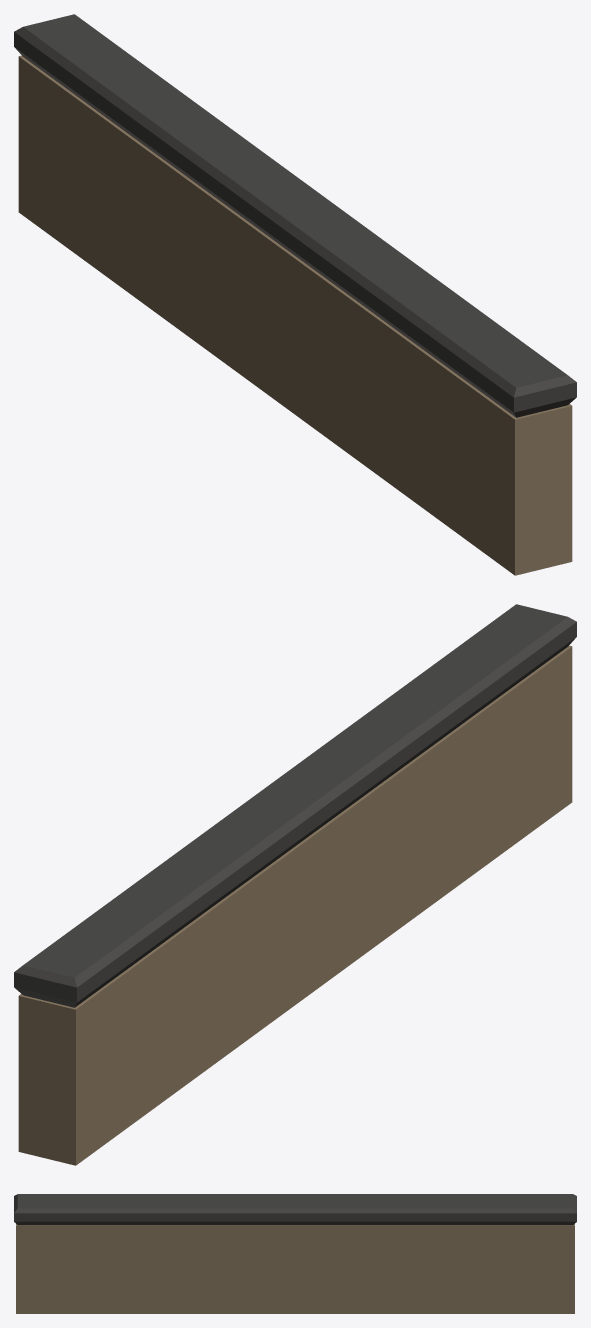
File: SM_Props_City_PlayGround_Skatepark_Element_02.fbx
The picture shows the model from 3 angles, top to bottom: view 1: azimuth 30°, elevation 25°; view 2: azimuth 150°, elevation 25°; view 3: azimuth 270°, elevation 25°; orthographic projection. The views are drawn at different scales.
Parts seen in each view (by area): view 1: SM_Props_City_PlayGround_Skatepark_Element_02; view 2: SM_Props_City_PlayGround_Skatepark_Element_02; view 3: SM_Props_City_PlayGround_Skatepark_Element_02.
Part boxes in pixels (x1,y1,x2,y2): SM_Props_City_PlayGround_Skatepark_Element_02: [14, 14, 576, 575]; SM_Props_City_PlayGround_Skatepark_Element_02: [14, 604, 576, 1165]; SM_Props_City_PlayGround_Skatepark_Element_02: [14, 1194, 576, 1313].
Size of the model in its own units: 22 by 62 by 302.
